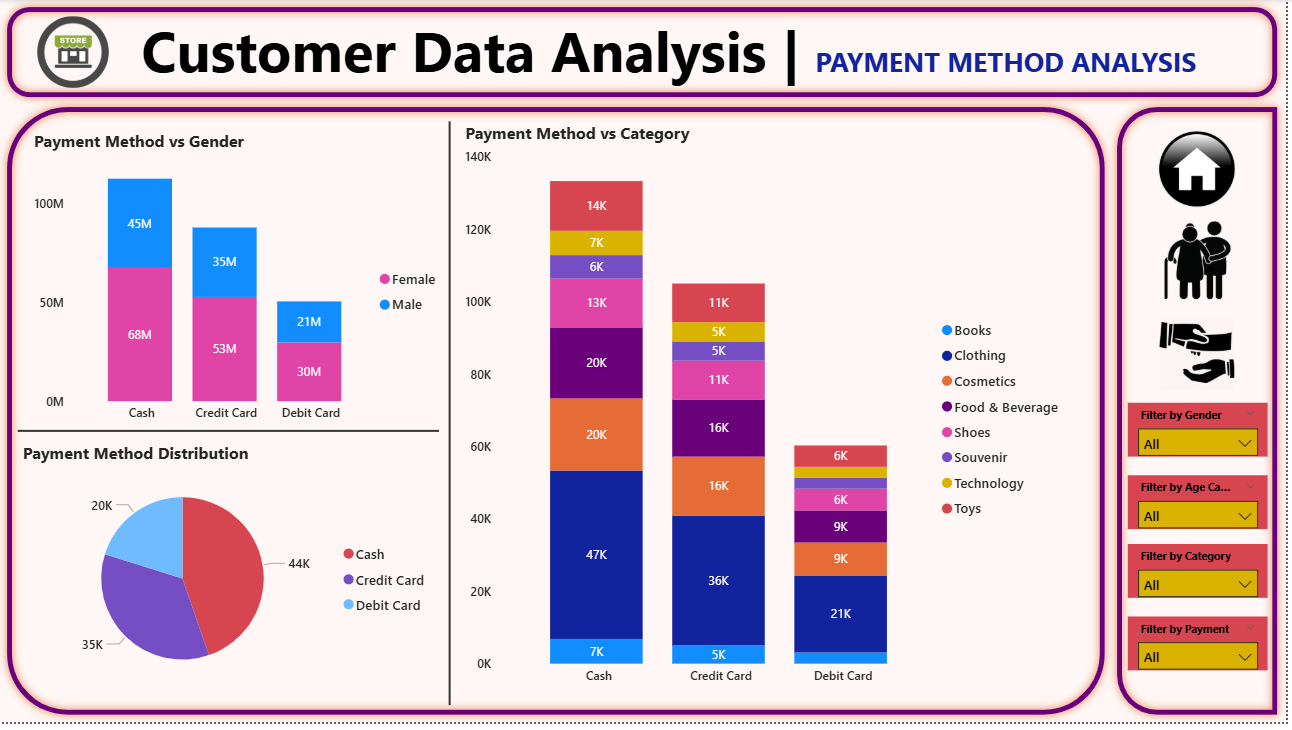

Layout of this report page (visuals, bound fields, positions):
{"tool":"powerbi","page":{"name":"Payment","canvas":[1280,720],"ordinal":2},"visuals":[{"type":"shape","box":[0,99.5,1108.4,620.7],"z":0},{"type":"shape","box":[0,0,1280,105.7],"z":1000},{"type":"shape","box":[1104.6,99.5,175.4,620.7],"z":2000},{"type":"textbox","box":[136.8,7.5,1100.9,92.1],"z":3000},{"type":"image","box":[1.2,12.4,144.3,80.9],"z":4000},{"type":"slicer","fields":{"Values":["customer_DA_cleaned.gender"]},"box":[1123.3,401.8,139.3,53.5],"z":8000},{"type":"slicer","fields":{"Values":["customer_DA_cleaned.age_cat"]},"box":[1123.3,473.9,139.3,53.5],"z":9000},{"type":"slicer","fields":{"Values":["customer_DA_cleaned.category"]},"box":[1123.3,542.4,139.3,53.5],"z":10000},{"type":"slicer","fields":{"Values":["customer_DA_cleaned.payment_method"]},"box":[1123.3,614.5,139.3,53.5],"z":11000},{"type":"shape","box":[408,121.9,80.9,580.9],"z":14000},{"type":"image","box":[1146.9,121.9,89.6,92.1],"z":15000},{"type":"image","box":[1146.9,309.7,90.8,84.6],"z":16000},{"type":"image","box":[1151.9,216.4,82.1,87.1],"z":17000},{"type":"actionButton","box":[1142,128.1,99.5,85.8],"z":18000},{"type":"actionButton","box":[1142,217.7,99.5,85.8],"z":19000},{"type":"actionButton","box":[1142,308.5,99.5,85.8],"z":20000},{"type":"shape","box":[18.7,403,419.2,53.5],"z":23000},{"type":"columnChart","title":"Payment Method vs Gender","fields":{"Category":["customer_DA_cleaned.payment_method"],"Series":["customer_DA_cleaned.gender"],"Y":["Sum(customer_DA_cleaned.revenue)"]},"box":[29.9,129.4,419.2,301],"z":23001},{"type":"pieChart","title":"Payment Method Distribution","fields":{"Category":["customer_DA_cleaned.payment_method"],"Y":["customer_DA_cleaned.Transactions"]},"box":[18.7,440.4,419.2,251.3],"z":23002},{"type":"columnChart","title":"Payment Method vs Category","fields":{"Category":["customer_DA_cleaned.payment_method"],"Series":["customer_DA_cleaned.category"],"Y":["customer_DA_cleaned.Total Quantity"]},"box":[459,121.9,609.5,569.7],"z":23004}]}

Visuals, with their boxes in screenshot pixels (x1, y1, x2, y2), scaled from the page's 1280x720 canvas onto the 1292x730 screenshot:
shape: box(0, 101, 1119, 729)
shape: box(0, 0, 1291, 107)
shape: box(1115, 101, 1291, 729)
textbox: box(138, 8, 1249, 101)
image: box(1, 13, 147, 95)
slicer - customer_DA_cleaned.gender: box(1134, 407, 1274, 462)
slicer - customer_DA_cleaned.age_cat: box(1134, 480, 1274, 535)
slicer - customer_DA_cleaned.category: box(1134, 550, 1274, 604)
slicer - customer_DA_cleaned.payment_method: box(1134, 623, 1274, 677)
shape: box(412, 124, 493, 713)
image: box(1158, 124, 1248, 217)
image: box(1158, 314, 1249, 400)
image: box(1163, 219, 1246, 308)
actionButton: box(1153, 130, 1253, 217)
actionButton: box(1153, 221, 1253, 308)
actionButton: box(1153, 313, 1253, 400)
shape: box(19, 409, 442, 463)
"Payment Method vs Gender" columnChart: box(30, 131, 453, 436)
"Payment Method Distribution" pieChart: box(19, 447, 442, 701)
"Payment Method vs Category" columnChart: box(463, 124, 1079, 701)
